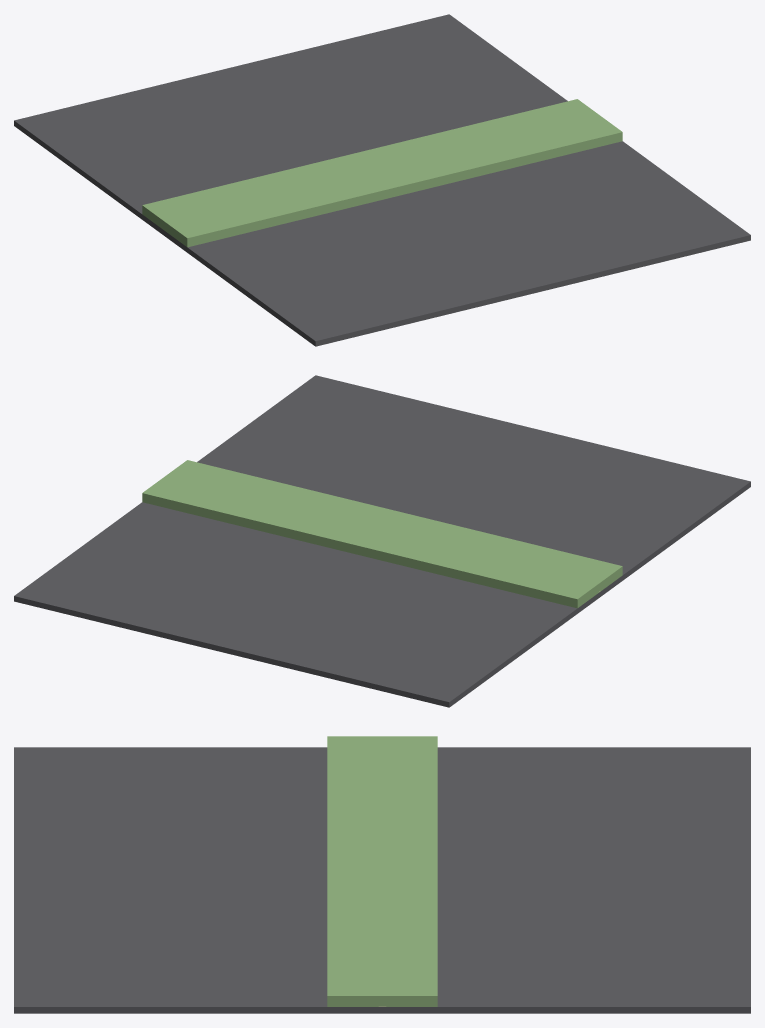
The model's file is avenue.glb.
3 views of the same model, one above another, from view 1: azimuth 30°, elevation 25°; view 2: azimuth 150°, elevation 25°; view 3: azimuth 270°, elevation 25° (orthographic). The views are drawn at different scales.
Parts seen in each view (by area): view 1: Cube, Cube.002; view 2: Cube, Cube.002; view 3: Cube, Cube.002.
Part boxes in pixels (box(x1,y1,x2,y2)): Cube: box(14, 14, 750, 346); Cube.002: box(142, 99, 622, 247); Cube: box(14, 375, 750, 707); Cube.002: box(142, 460, 622, 608); Cube: box(14, 747, 750, 1013); Cube.002: box(327, 736, 437, 1006).
Bounding box in the file's own units: 10 × 0.32 × 12.
